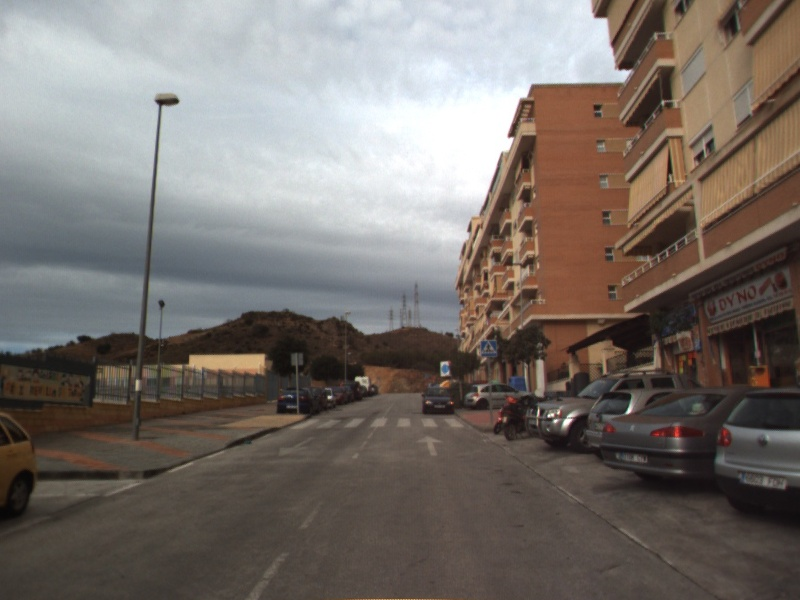STRAIGHT: (414, 433, 446, 458)
